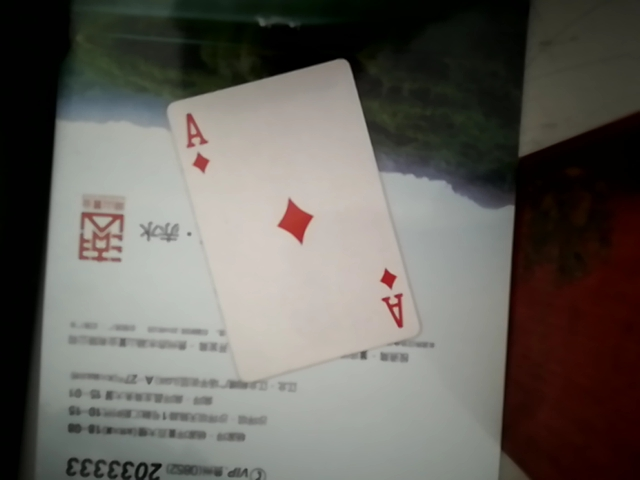fk a: (175, 56, 423, 369)
